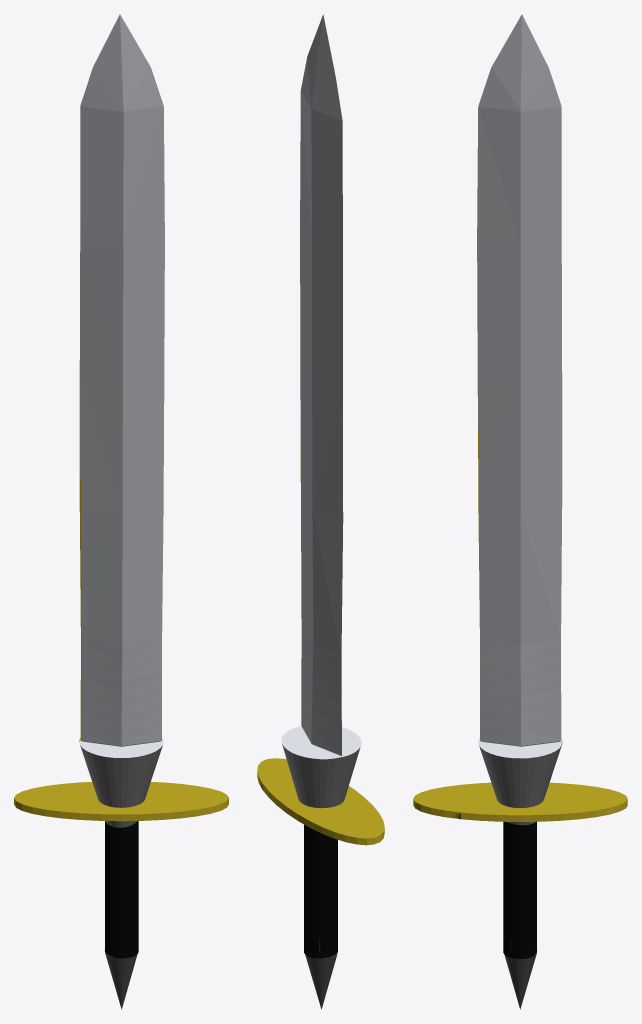
The model's file is Weapon.obj.
3 renders of one model, left to right at view 1: azimuth 90°, elevation 25°; view 2: azimuth 210°, elevation 25°; view 3: azimuth 270°, elevation 25°, orthographic.
Parts seen in each view (by area): view 1: Cube.001_Cube.002, 円柱.005_円柱.006, 円柱.003_円柱.004, 円柱.004_円柱.005, 円錐; view 2: Cube.001_Cube.002, 円柱.005_円柱.006, 円柱.004_円柱.005, 円柱.003_円柱.004, 円錐; view 3: Cube.001_Cube.002, 円柱.005_円柱.006, 円柱.003_円柱.004, 円柱.004_円柱.005, 円錐.
Part boxes in pixels (<box>): Cube.001_Cube.002: <box>79,14,164,746</box>; 円柱.005_円柱.006: <box>14,782,228,821</box>; 円柱.003_円柱.004: <box>105,821,138,958</box>; 円柱.004_円柱.005: <box>79,737,163,827</box>; 円錐: <box>104,950,137,1009</box>; Cube.001_Cube.002: <box>300,14,343,755</box>; 円柱.005_円柱.006: <box>257,758,384,845</box>; 円柱.004_円柱.005: <box>281,726,361,808</box>; 円柱.003_円柱.004: <box>304,824,337,958</box>; 円錐: <box>305,952,337,1009</box>; Cube.001_Cube.002: <box>477,14,562,746</box>; 円柱.005_円柱.006: <box>413,782,627,821</box>; 円柱.003_円柱.004: <box>503,821,536,958</box>; 円柱.004_円柱.005: <box>478,737,562,825</box>; 円錐: <box>504,950,537,1009</box>.
Size of the model in its own units: 0.9259 by 12.79 by 2.5.
